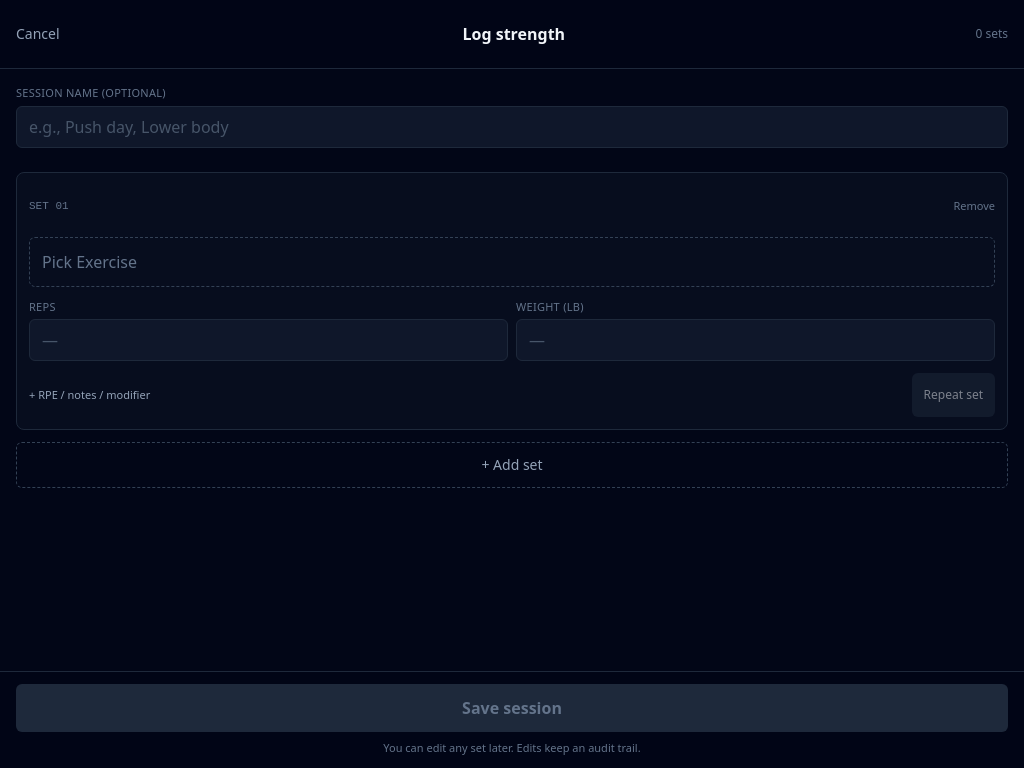
Test case: SessionLogger › repeat set carries exercise, reps, and weight forward
Click the button "Pick exercise": (90, 262) [29,236,995,286]
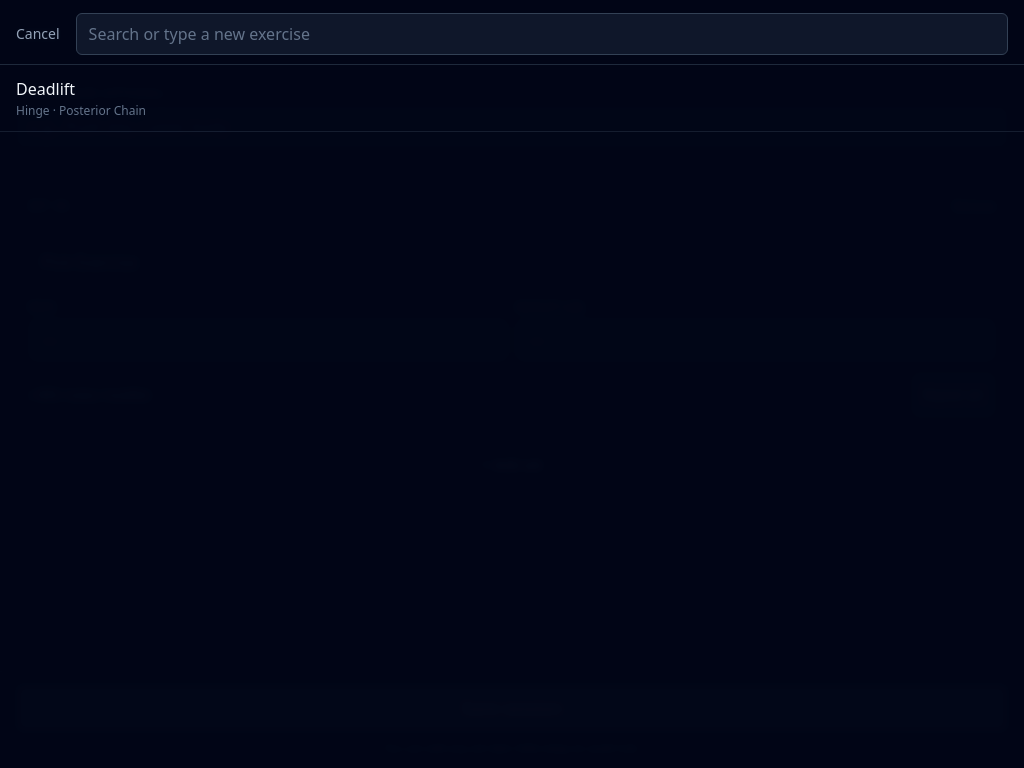
Click the text "deadlift": (46, 89) [16,78,75,100]
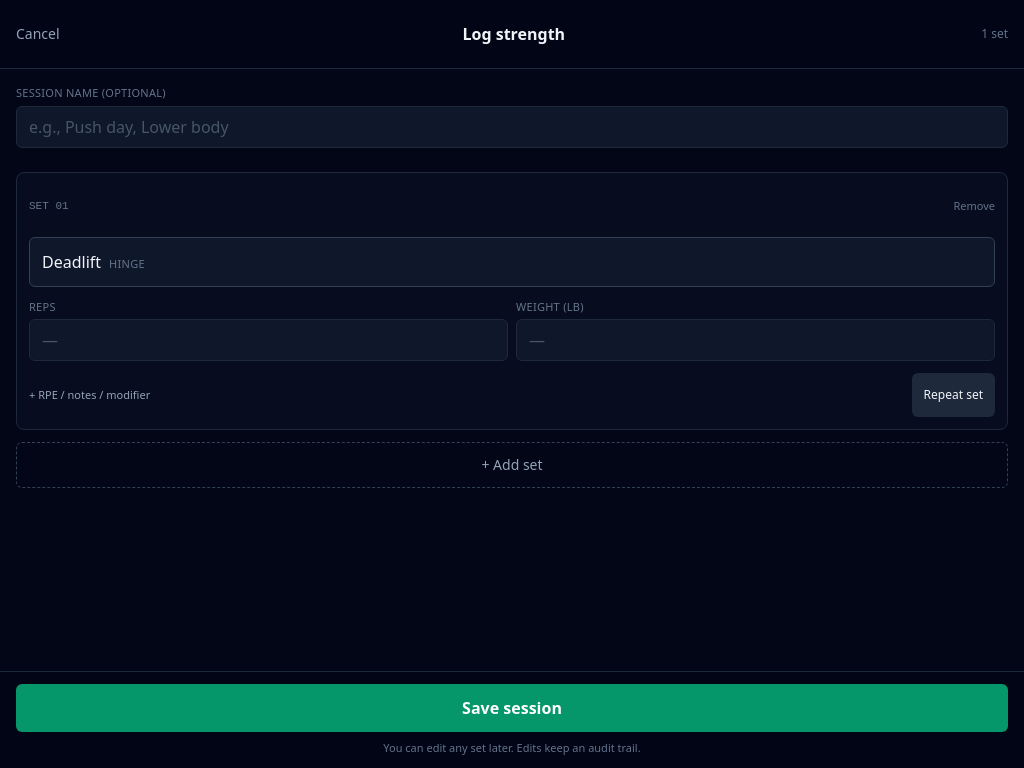
In the field labelled "Reps": (268, 340) [29,319,508,361], type "5"
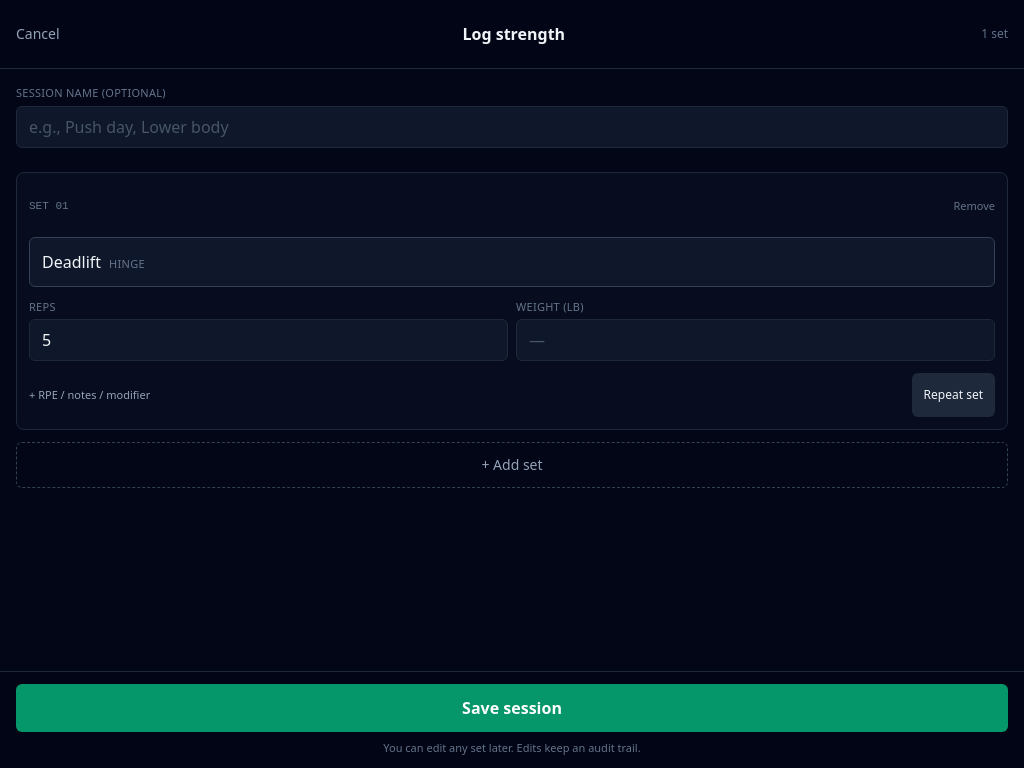
In the field labelled "Weight (lb)": (756, 340) [516,319,995,361], type "225"
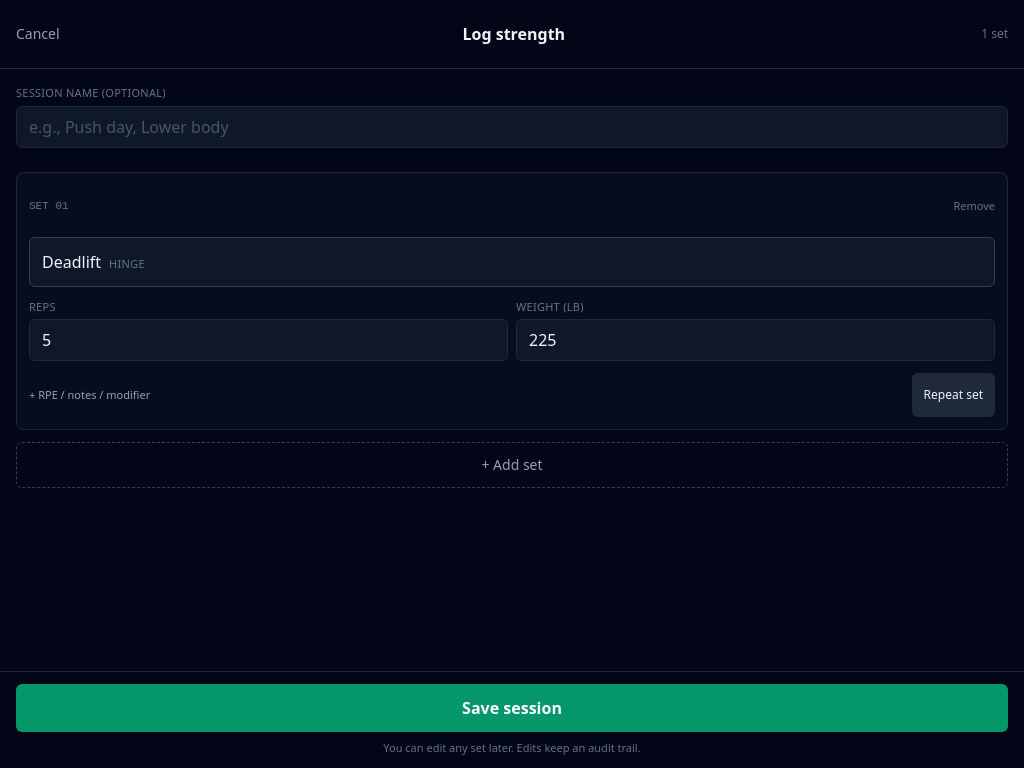
Click the button "Repeat set": (953, 395) [912,373,995,417]
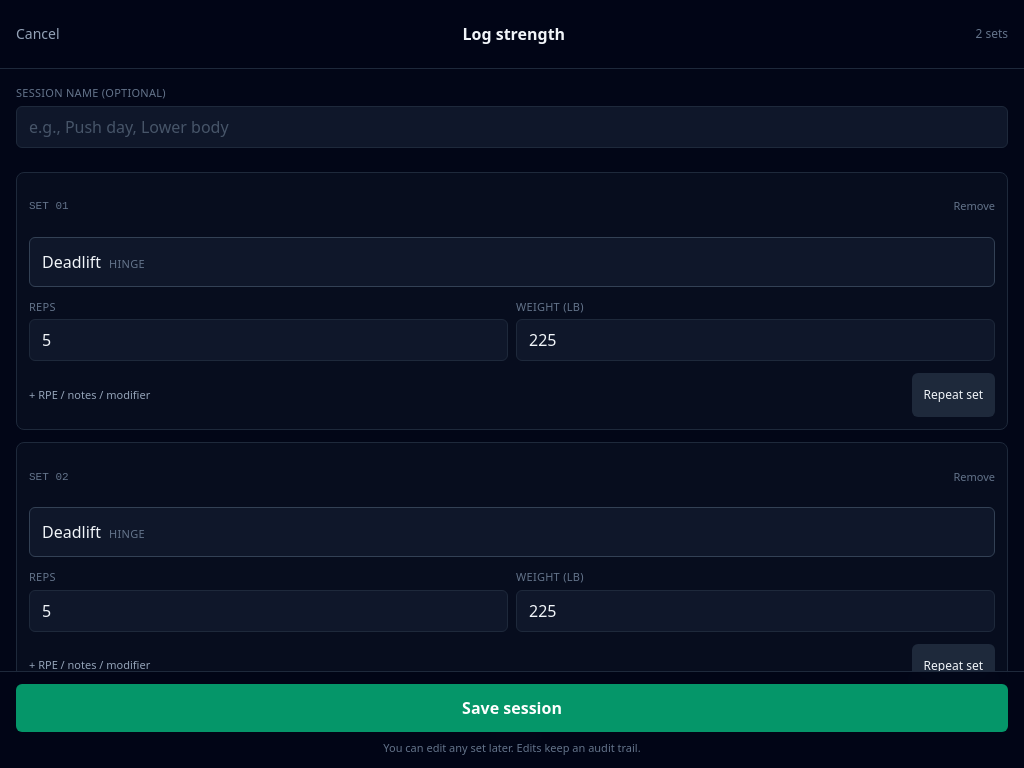
Check: the field labelled "Reps" below "02" holds "5", box [29,590,508,632]
